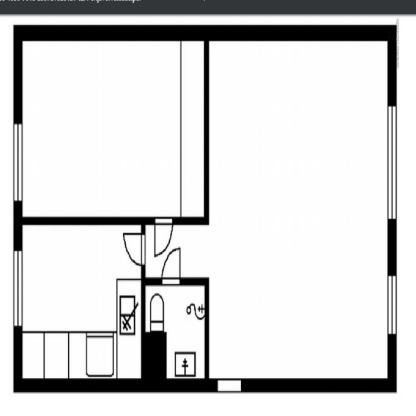door: (145, 39, 386, 377), (22, 39, 202, 216), (23, 223, 141, 378), (145, 285, 205, 380)
window: (122, 231, 146, 267), (162, 247, 181, 284), (155, 217, 171, 258)
zone: (388, 104, 396, 218), (387, 276, 396, 336), (15, 124, 21, 201), (14, 250, 20, 324)
